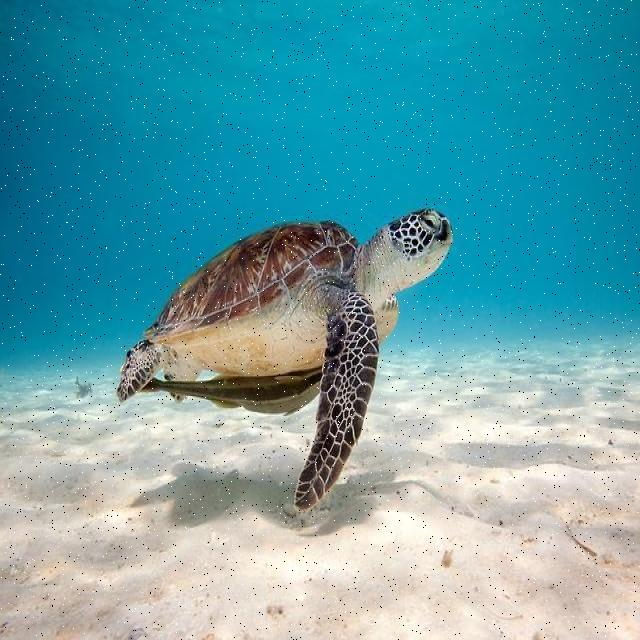fish: (115, 209, 453, 516), (135, 366, 324, 414)
